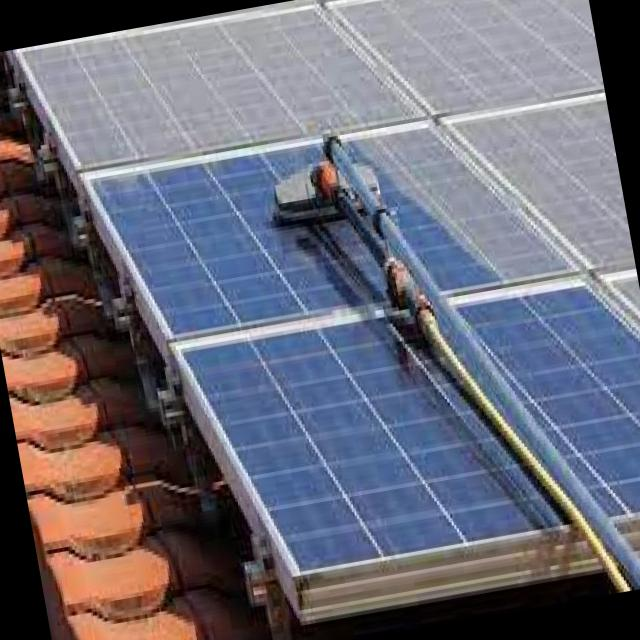faulty: (96, 130, 566, 337), (28, 5, 419, 164), (351, 0, 598, 113), (462, 97, 627, 259)
